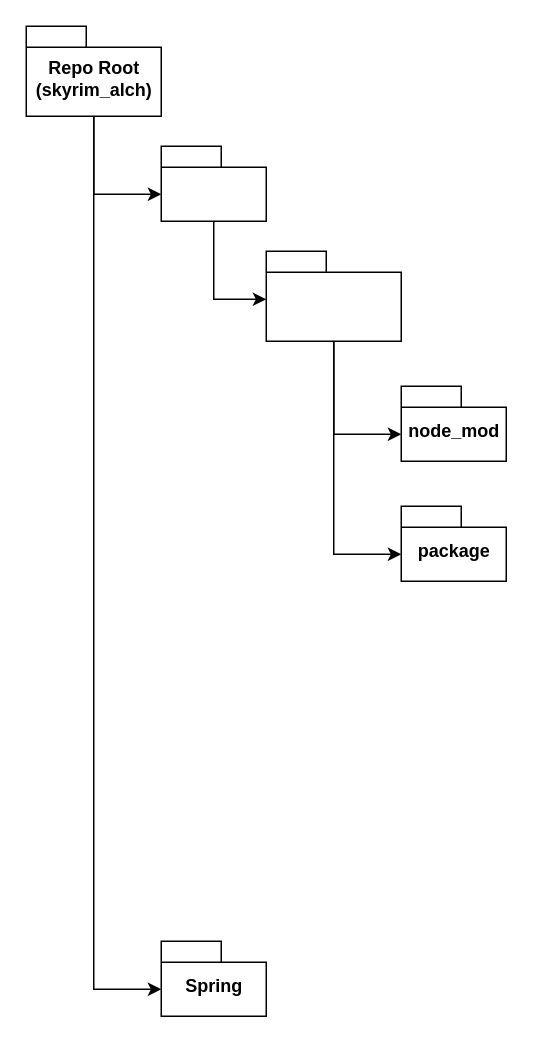
Image size: 533x1043. Some labels were removed from this diagram. The shapes that lost their labels are listed below. From the top down, each one's box as (x1, y1, x2, y2) in pixels, then its label:
(160, 145, 266, 221): Front End (view)
(265, 250, 401, 341): react (skyrim_alch)
